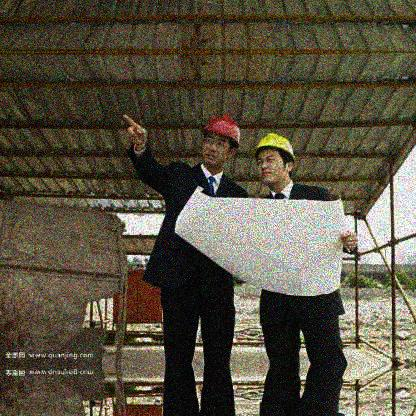helmet: (195, 112, 243, 179), (246, 132, 301, 189)
